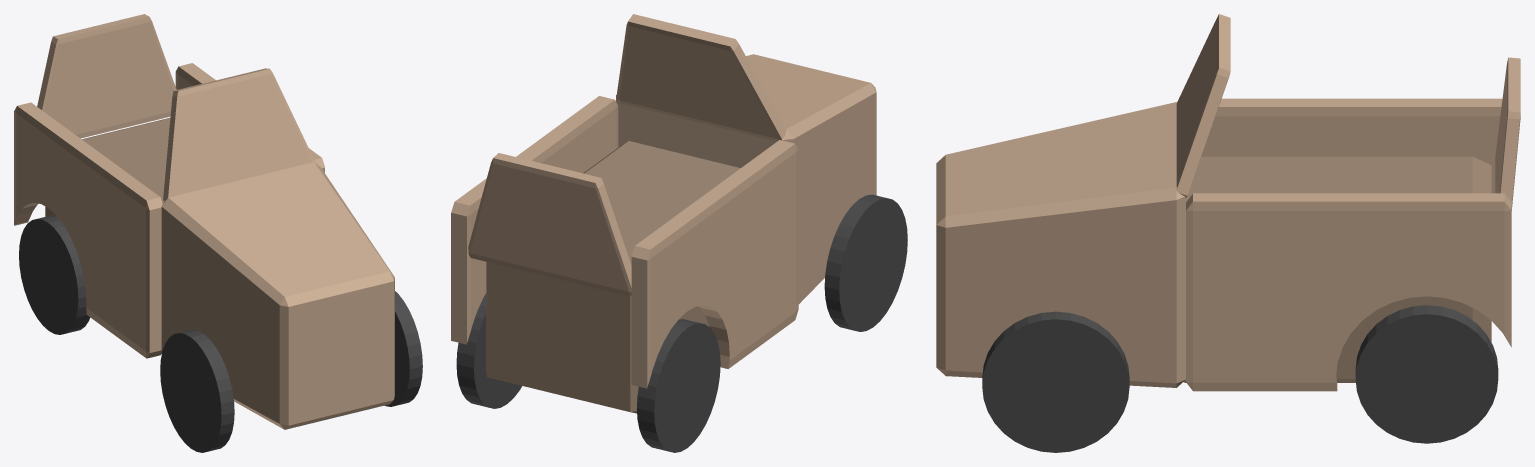
Rendered from mobil.fbx.
The picture shows the model from 3 angles, left to right: view 1: azimuth 30°, elevation 25°; view 2: azimuth 150°, elevation 25°; view 3: azimuth 270°, elevation 25°; orthographic projection. The views are drawn at different scales.
Parts seen in each view (by area): view 1: Cube, Cube.002, Cube.003, Cube.006, Cylinder, Cylinder.001, Cube.004, Cube.001; view 2: Cube.002, Cube.004, Cube, Cube.006, Cube.003, Cylinder.001, Cylinder, Cube.001; view 3: Cube, Cube.001, Cube.002, Cylinder, Cylinder.001, Cube.004, Cube.003, Cube.006.
Part boxes in pixels (x1,y1,x2,y2): Cube: (161,162,394,429); Cube.002: (14,102,162,358); Cube.003: (163,68,315,201); Cube.006: (37,14,176,138); Cylinder: (160,291,422,452); Cylinder.001: (19,215,90,334); Cube.004: (45,118,170,216); Cube.001: (175,63,324,172); Cube.002: (631,140,798,388); Cube.004: (486,141,740,413); Cube: (616,54,876,304); Cube.006: (468,153,631,296); Cube.003: (616,14,785,141); Cylinder.001: (456,293,720,452); Cylinder: (824,194,907,331); Cube.001: (451,96,618,344); Cube: (936,102,1185,387); Cube.001: (1186,193,1511,391); Cube.002: (1201,98,1502,193); Cylinder: (982,311,1129,452); Cylinder.001: (1355,305,1498,443); Cube.004: (1183,156,1491,382); Cube.003: (1176,14,1230,197); Cube.006: (1495,57,1520,210).
Size of the model in its own units: 379 by 529 by 792.
